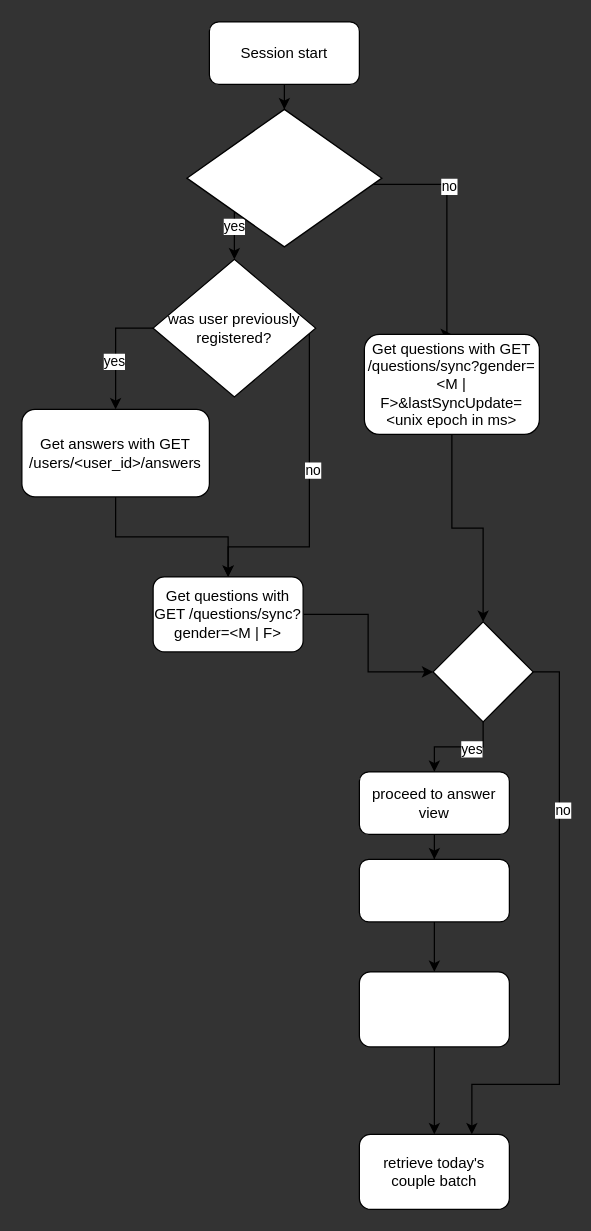
Image size: 591x1231. Some labels were removed from this diagram. Each missing label, with the centre of its shape:
For each question, lazily load video from CDN: the point at 433,890
Initial session on this device?: the point at 284,177
is there new questions?: the point at 482,671
save answers and lastSyncUpdate from GET /questions/sync: the point at 433,1009
